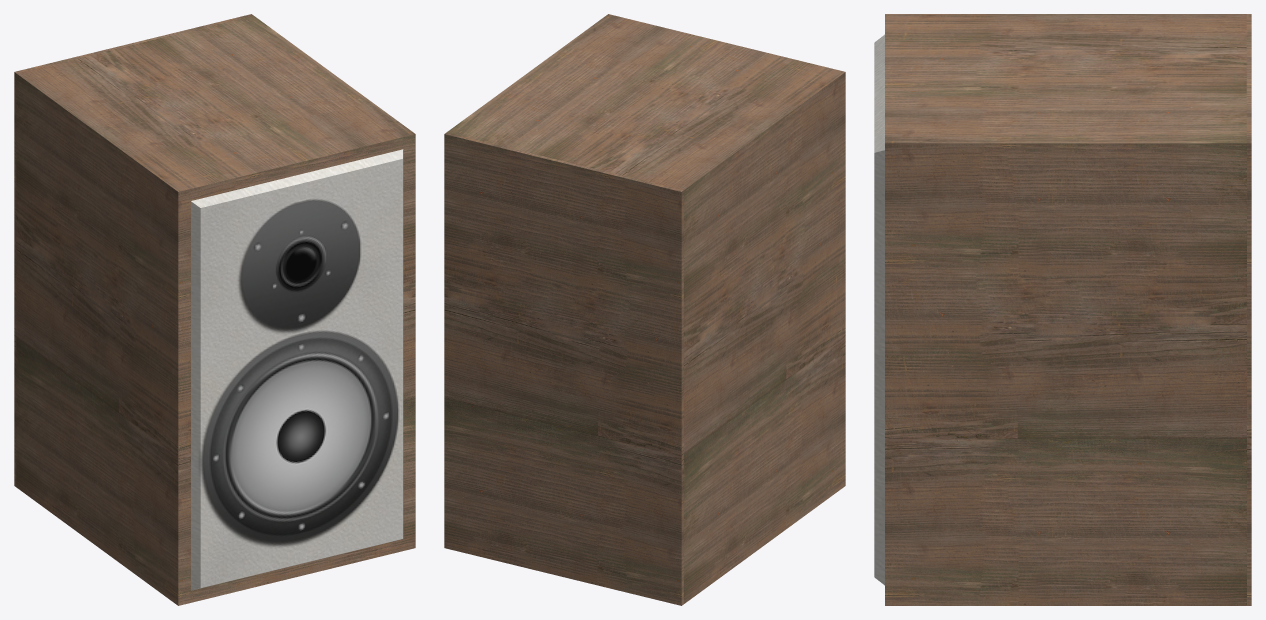
The model's file is Speaker2.fbx.
The picture shows the model from 3 angles, left to right: view 1: azimuth 30°, elevation 25°; view 2: azimuth 150°, elevation 25°; view 3: azimuth 270°, elevation 25°; orthographic projection. The views are drawn at different scales.
Visible parts, largest first — view 1: Empty_Mesh; view 2: Empty_Mesh; view 3: Empty_Mesh.
Boxes of the visible parts, left/top/right/bottom form: Empty_Mesh: left=14, top=14, right=415, bottom=605; Empty_Mesh: left=444, top=14, right=845, bottom=605; Empty_Mesh: left=874, top=14, right=1251, bottom=605.
Size of the model in its own units: 33.31 by 55.51 by 41.01.
